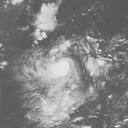cyclone: (19, 40, 88, 105)
